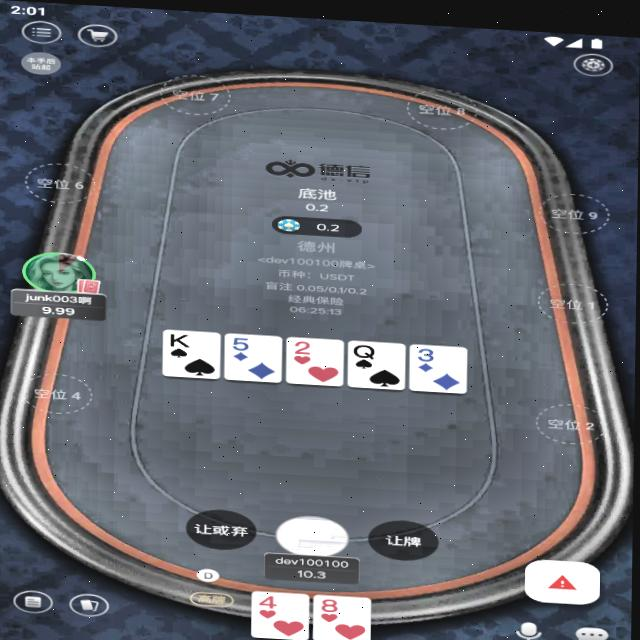2h: (291, 335, 317, 353)
3f: (414, 341, 439, 359)
4h: (257, 590, 285, 608)
5f: (228, 332, 255, 350)
8h: (318, 593, 350, 611)
Ks: (169, 330, 195, 347)
Qs: (352, 337, 380, 355)
